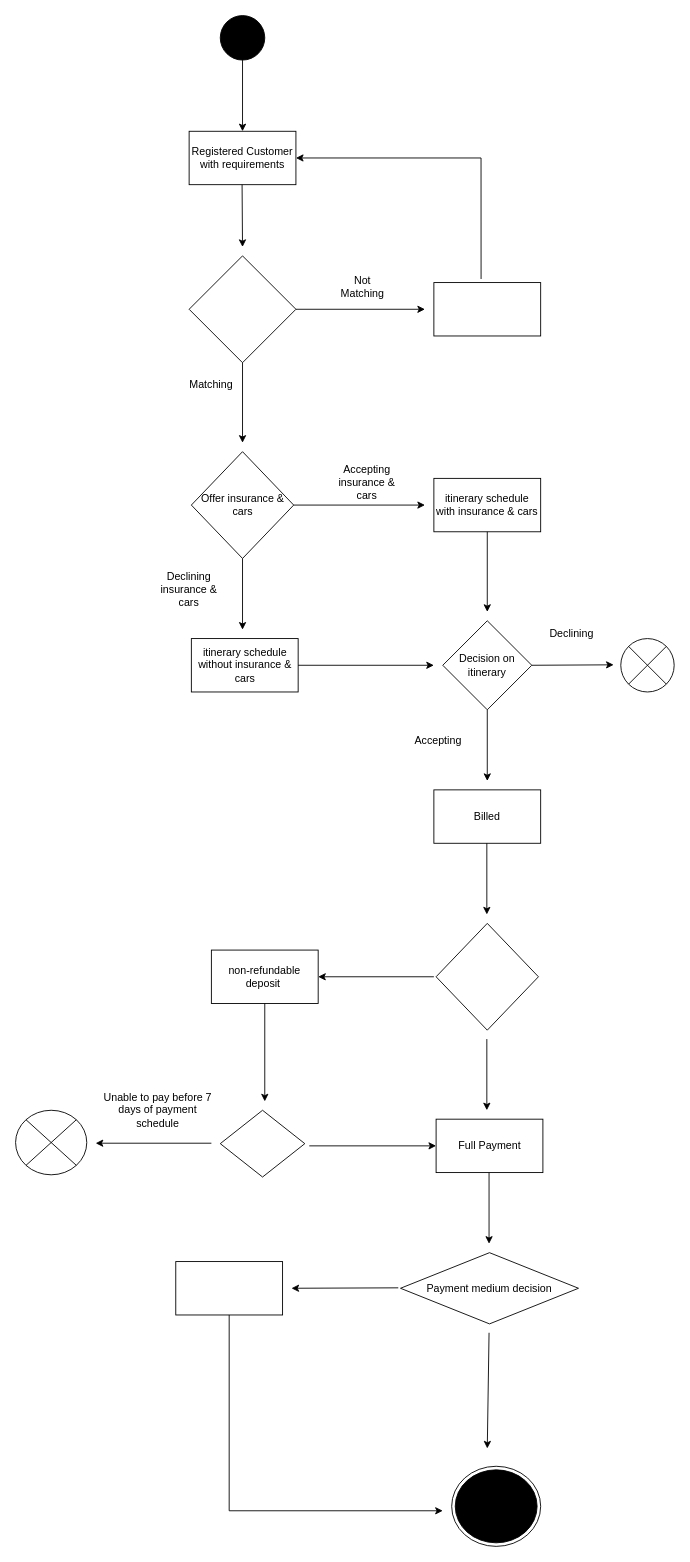
Some shapes in this 690 by 1562 pixel diagram are drawn without their labels. The centre of each missing label's shape, as x and y in pixels:
"Credit card with 1.5% charge" goes at pixel 229 1288.
"Matching requirements" goes at pixel 242 309.
"Offer custom packages." goes at pixel 487 309.
"Payment decision" goes at pixel 486 976.
